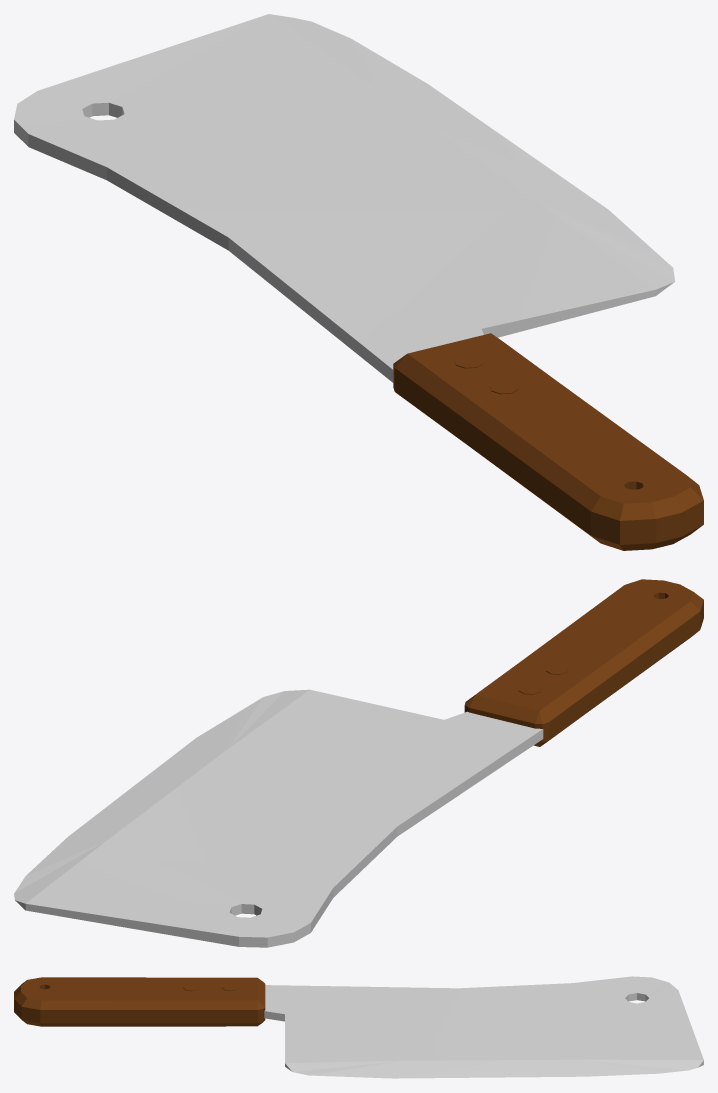
The model's file is Knife.fbx.
The picture shows the model from 3 angles, top to bottom: view 1: azimuth 30°, elevation 25°; view 2: azimuth 150°, elevation 25°; view 3: azimuth 270°, elevation 25°; orthographic projection. The views are drawn at different scales.
Parts seen in each view (by area): view 1: Butcher_Knife; view 2: Butcher_Knife; view 3: Butcher_Knife.
Boxes of the visible parts, x1=… form: Butcher_Knife: x1=14, y1=14, x2=703, y2=550; Butcher_Knife: x1=14, y1=579, x2=703, y2=947; Butcher_Knife: x1=14, y1=976, x2=703, y2=1078.
Bounding box in the file's own units: 1910 × 248 × 5655.
